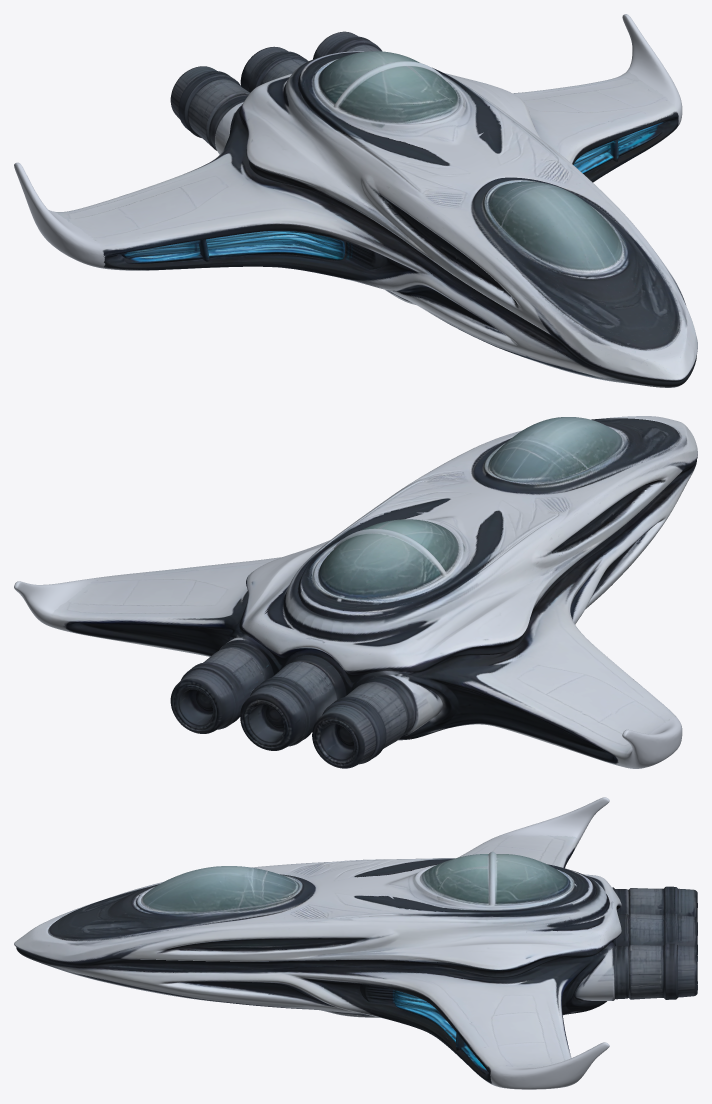
The model's file is trident-galactic.glb.
3 views of the same model, one above another, from view 1: azimuth 30°, elevation 25°; view 2: azimuth 150°, elevation 25°; view 3: azimuth 270°, elevation 25° (orthographic). The views are drawn at different scales.
Parts seen in each view (by area): view 1: node_0; view 2: node_0; view 3: node_0.
Boxes of the visible parts, <box> form: node_0: <box>14,14,697,387</box>; node_0: <box>14,416,697,768</box>; node_0: <box>14,797,697,1089</box>.
Bounding box in the file's own units: 0.9177 × 0.2233 × 1.06.
Materials: 1 (1 with a texture image).
